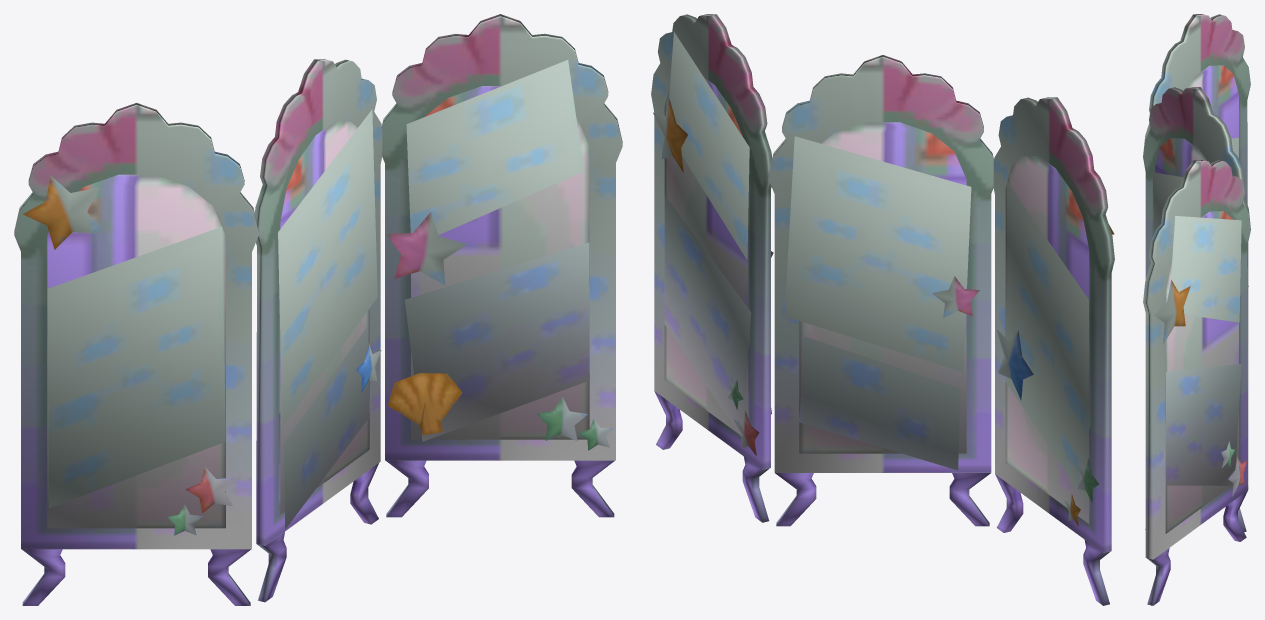
File: int_mmd_screen.dae
3 views of the same model, side by side, from view 1: azimuth 30°, elevation 25°; view 2: azimuth 150°, elevation 25°; view 3: azimuth 270°, elevation 25° (orthographic). The views are drawn at different scales.
Visible parts, largest first — view 1: int_mmd_screen; view 2: int_mmd_screen; view 3: int_mmd_screen.
Boxes of the visible parts, x1,y1,x2,y2 form: int_mmd_screen: (14,14,622,605); int_mmd_screen: (651,14,1114,605); int_mmd_screen: (1143,14,1250,605).
Bounding box in the file's own units: 60.67 × 52.44 × 12.51.
Materials: 1 (1 with a texture image).
